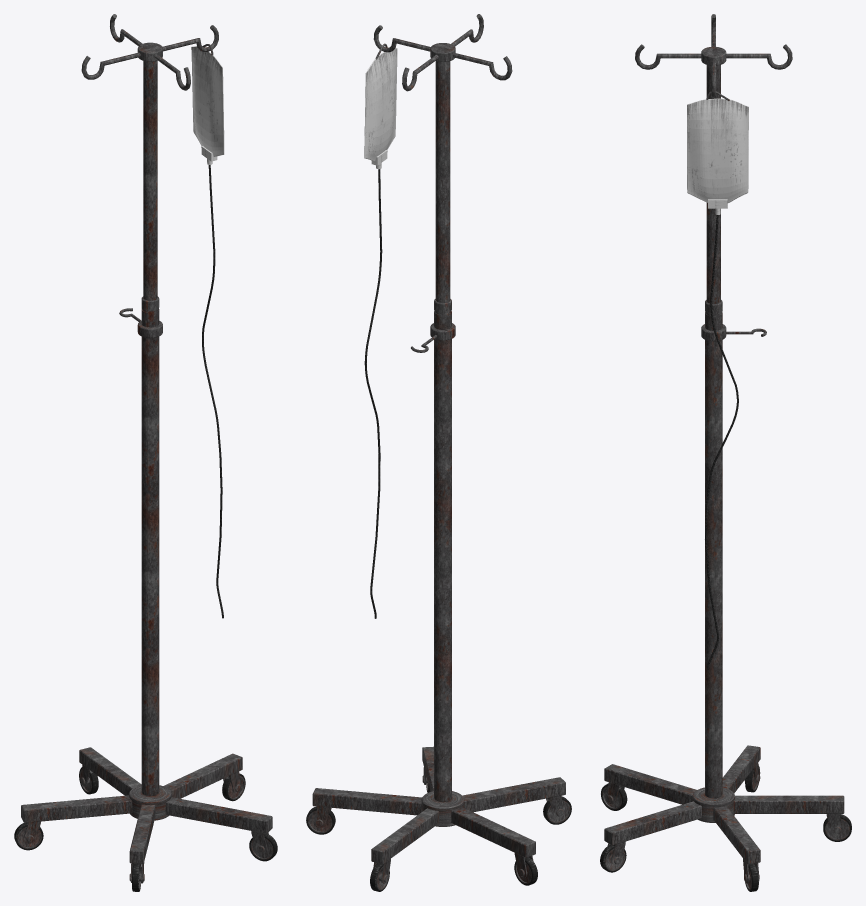
The model's file is tdc-dtr-infusion.glb.
3 renders of one model, left to right at view 1: azimuth 30°, elevation 25°; view 2: azimuth 150°, elevation 25°; view 3: azimuth 270°, elevation 25°, orthographic.
Visible parts, largest first — view 1: tdc-dtr-infusion; view 2: tdc-dtr-infusion; view 3: tdc-dtr-infusion.
Boxes of the visible parts, <box> form: tdc-dtr-infusion: <box>14,14,277,891</box>; tdc-dtr-infusion: <box>306,14,571,891</box>; tdc-dtr-infusion: <box>600,14,851,891</box>.
Size of the model in its own units: 0.2484 by 0.825 by 0.2366.
Materials: 4 (4 with a texture image).
